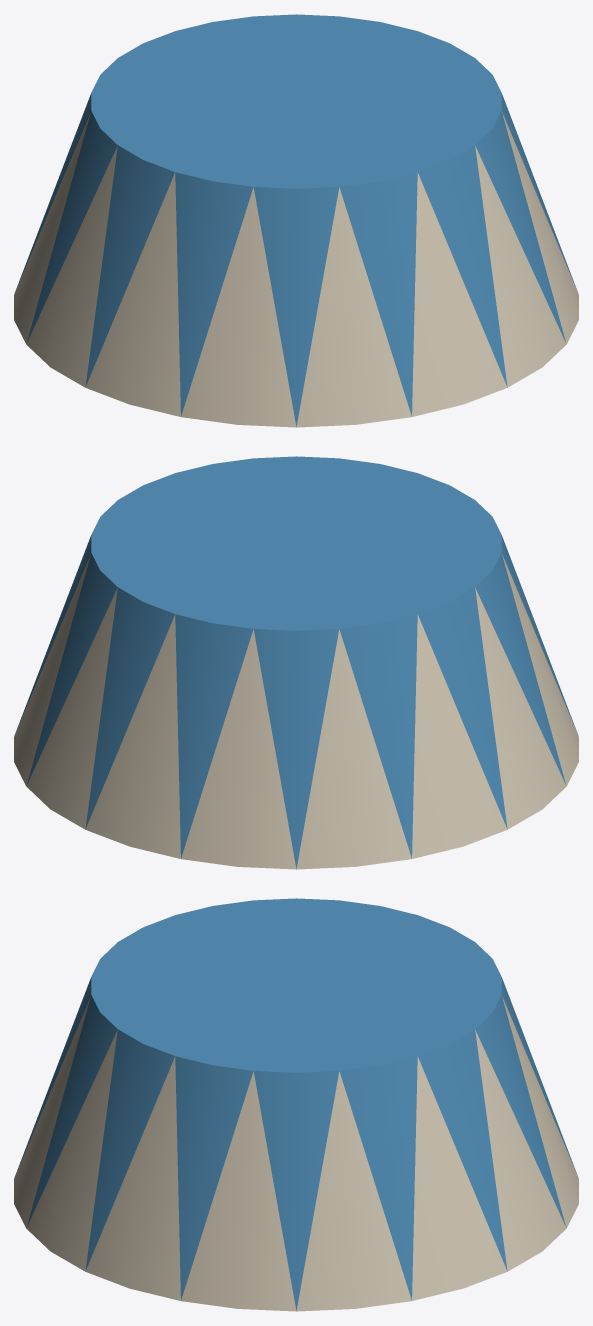
The model's file is F_Stage_02.fbx.
3 renders of one model, top to bottom at view 1: azimuth 30°, elevation 25°; view 2: azimuth 150°, elevation 25°; view 3: azimuth 270°, elevation 25°, orthographic.
Visible parts, largest first — view 1: F_Stage_02; view 2: F_Stage_02; view 3: F_Stage_02.
Boxes of the visible parts, <box> form: F_Stage_02: <box>14,14,578,427</box>; F_Stage_02: <box>14,456,578,869</box>; F_Stage_02: <box>14,898,578,1311</box>.
Size of the model in its own units: 200 by 79.97 by 199.
1 material, 1 textured.
